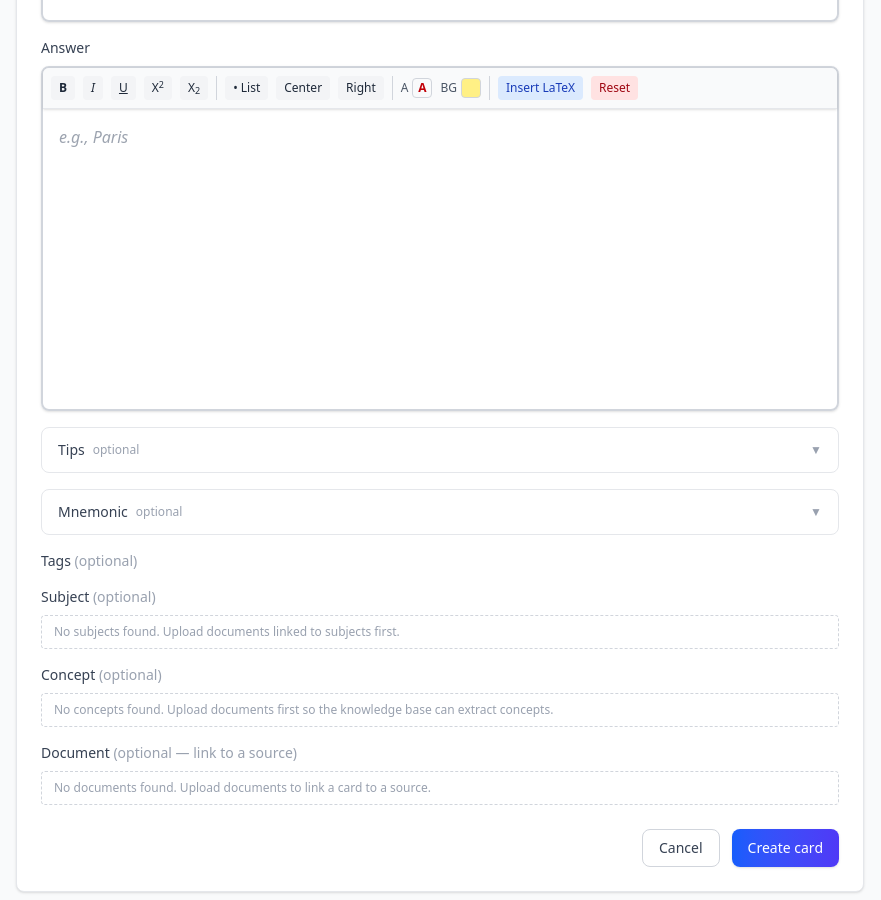
CreateCardPage — tips and mnemonic sections › Tips section expands when clicked
This screenshot has width=881, height=900.
(page scrolled)
Click the text "Tips" at (71, 450), box [58,440,85,460]
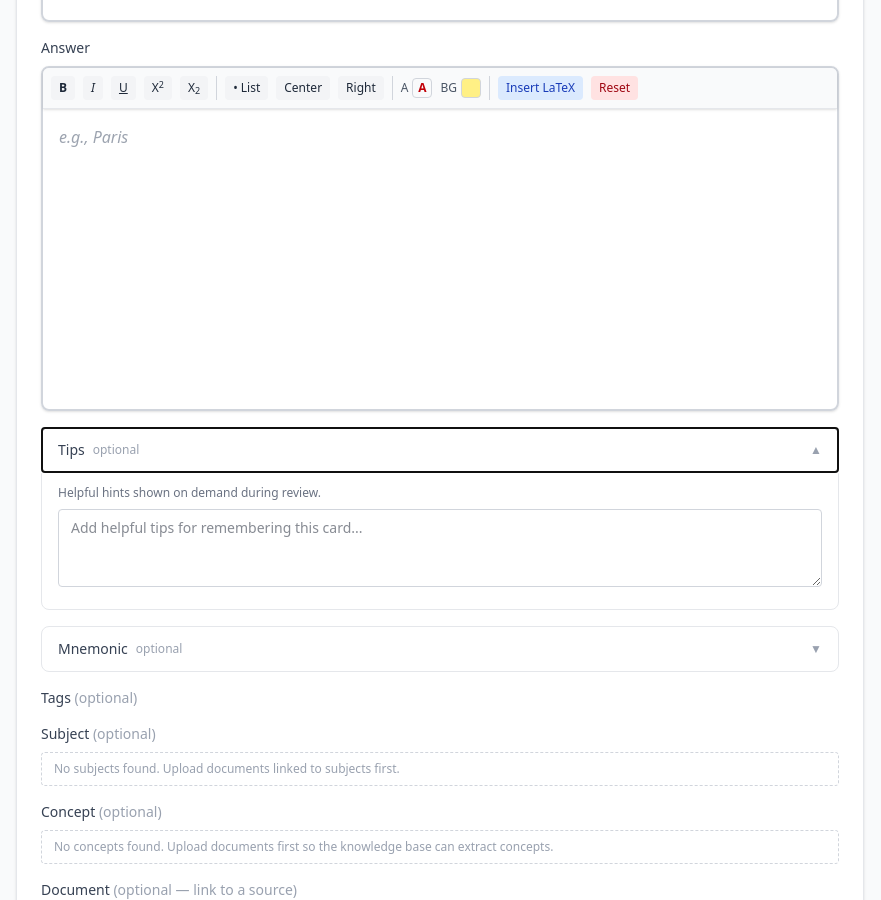
expect the text box with placeholder "Add helpful tips for remembering this card..." is shown: met, box [58,509,822,587]
